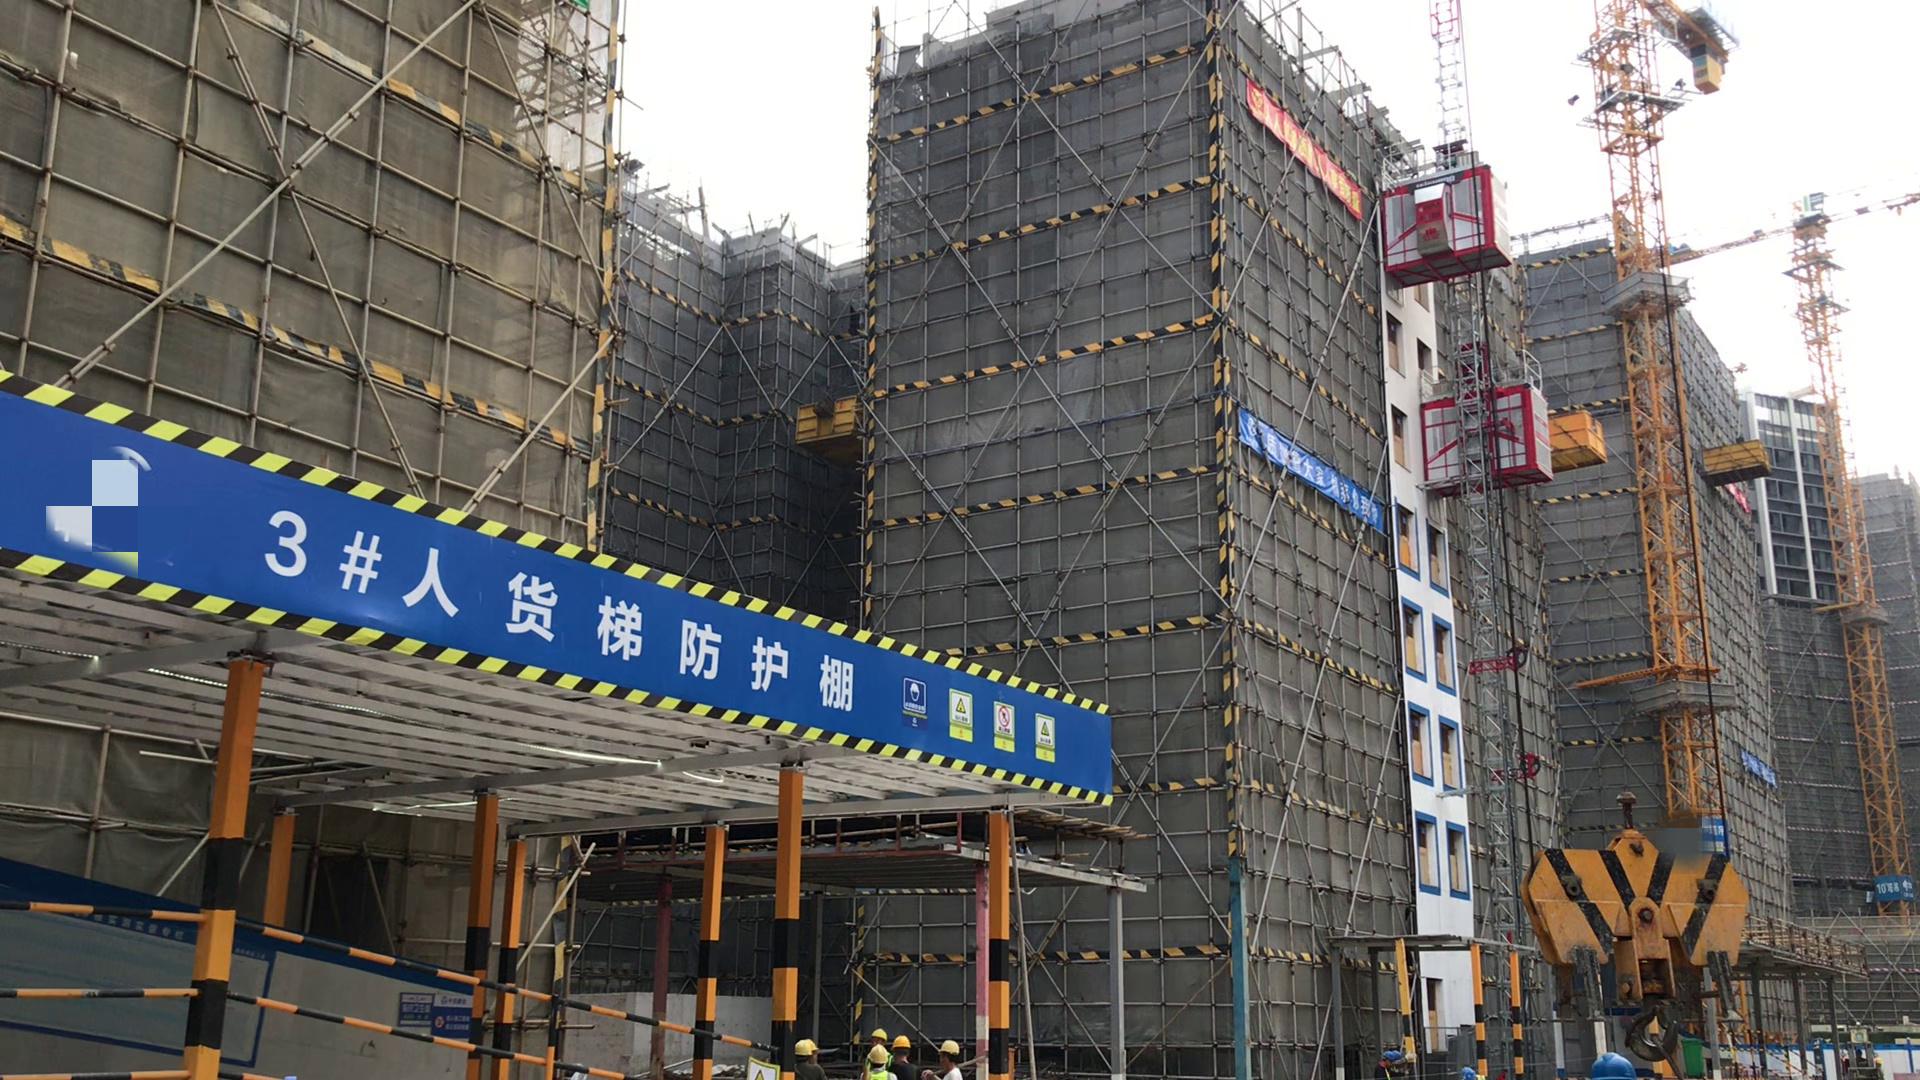helmet: (1575, 1051, 1638, 1080), (794, 1039, 823, 1059), (938, 1037, 959, 1056), (867, 1046, 890, 1063), (892, 1035, 913, 1053), (867, 1028, 888, 1039)
hook: (1533, 802, 1762, 1055)
person: (857, 1027, 921, 1080), (927, 1033, 973, 1080), (786, 1037, 834, 1080), (1374, 1045, 1405, 1080)
slogan: (1235, 404, 1385, 533), (894, 670, 1075, 757), (1246, 84, 1365, 212), (1869, 872, 1915, 905)
